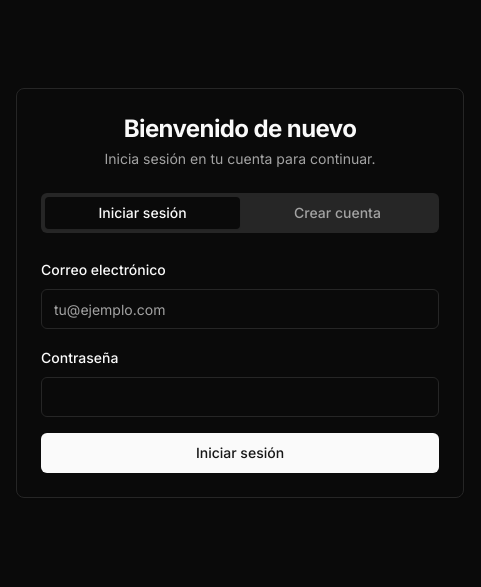
LoginPage form › shows confirmation message after signup when email confirmation is required
Click the tab "Crear cuenta" at (338, 213), box [240,197,435,229]
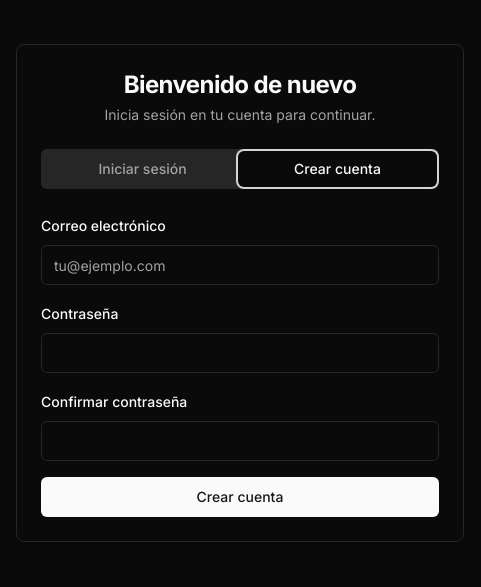
Type "new@b.com" into the field labelled "Correo electrónico" at (240, 265), box [41,245,439,285]
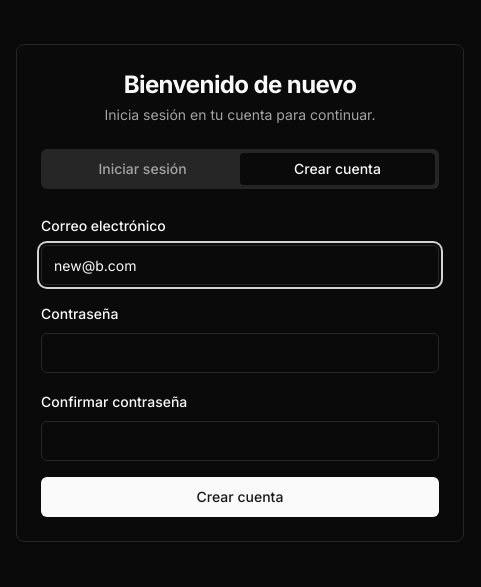
Type "secret123" into the password field labelled "Contraseña" at (240, 353), box [41,333,439,373]
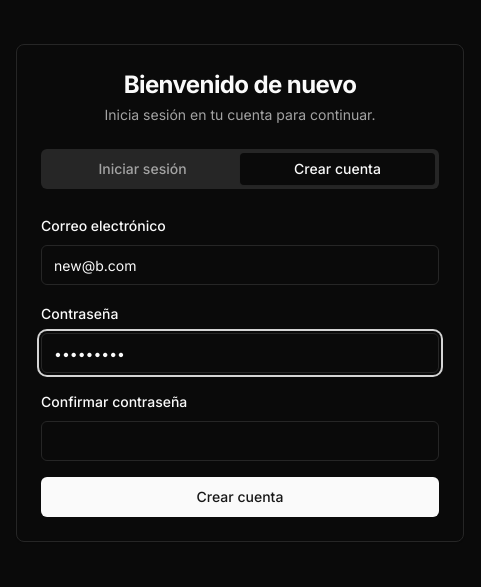
Type "secret123" into the password field labelled "Confirmar contraseña" at (240, 441), box [41,421,439,461]
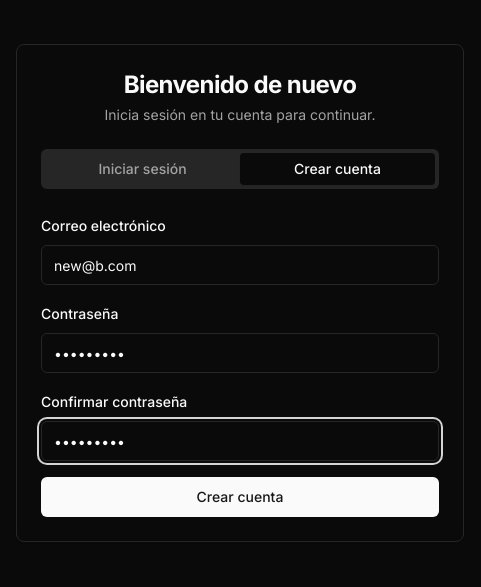
Click the button "Crear cuenta" at (240, 497), box [41,477,439,517]
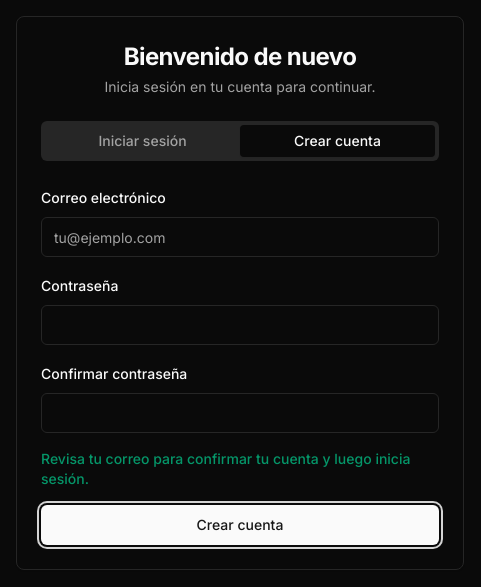
Check: the text "Revisa tu correo para confirmar tu cuenta y luego inicia sesión." is shown, box [41,449,439,489]
